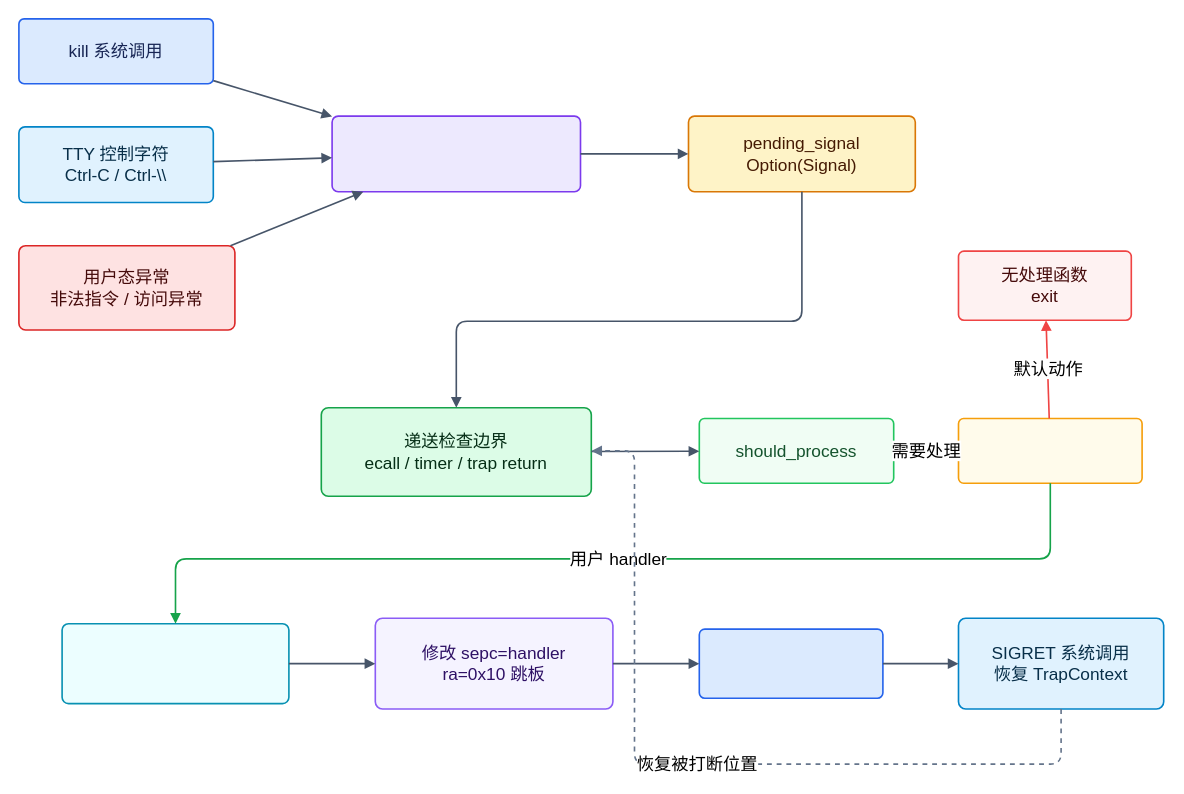
Some shapes in this 1184 by 794 pixel diagram are drawn without their labels. The box of each missing label's shape, as (x1, y1, x2, y2) in pixels:
process_signal: (957, 417, 1142, 484)
ProcessManager::kill / raise: (331, 115, 581, 192)
保存 TrapContext 到用户栈: (61, 622, 289, 704)
用户处理函数: (698, 628, 883, 699)
